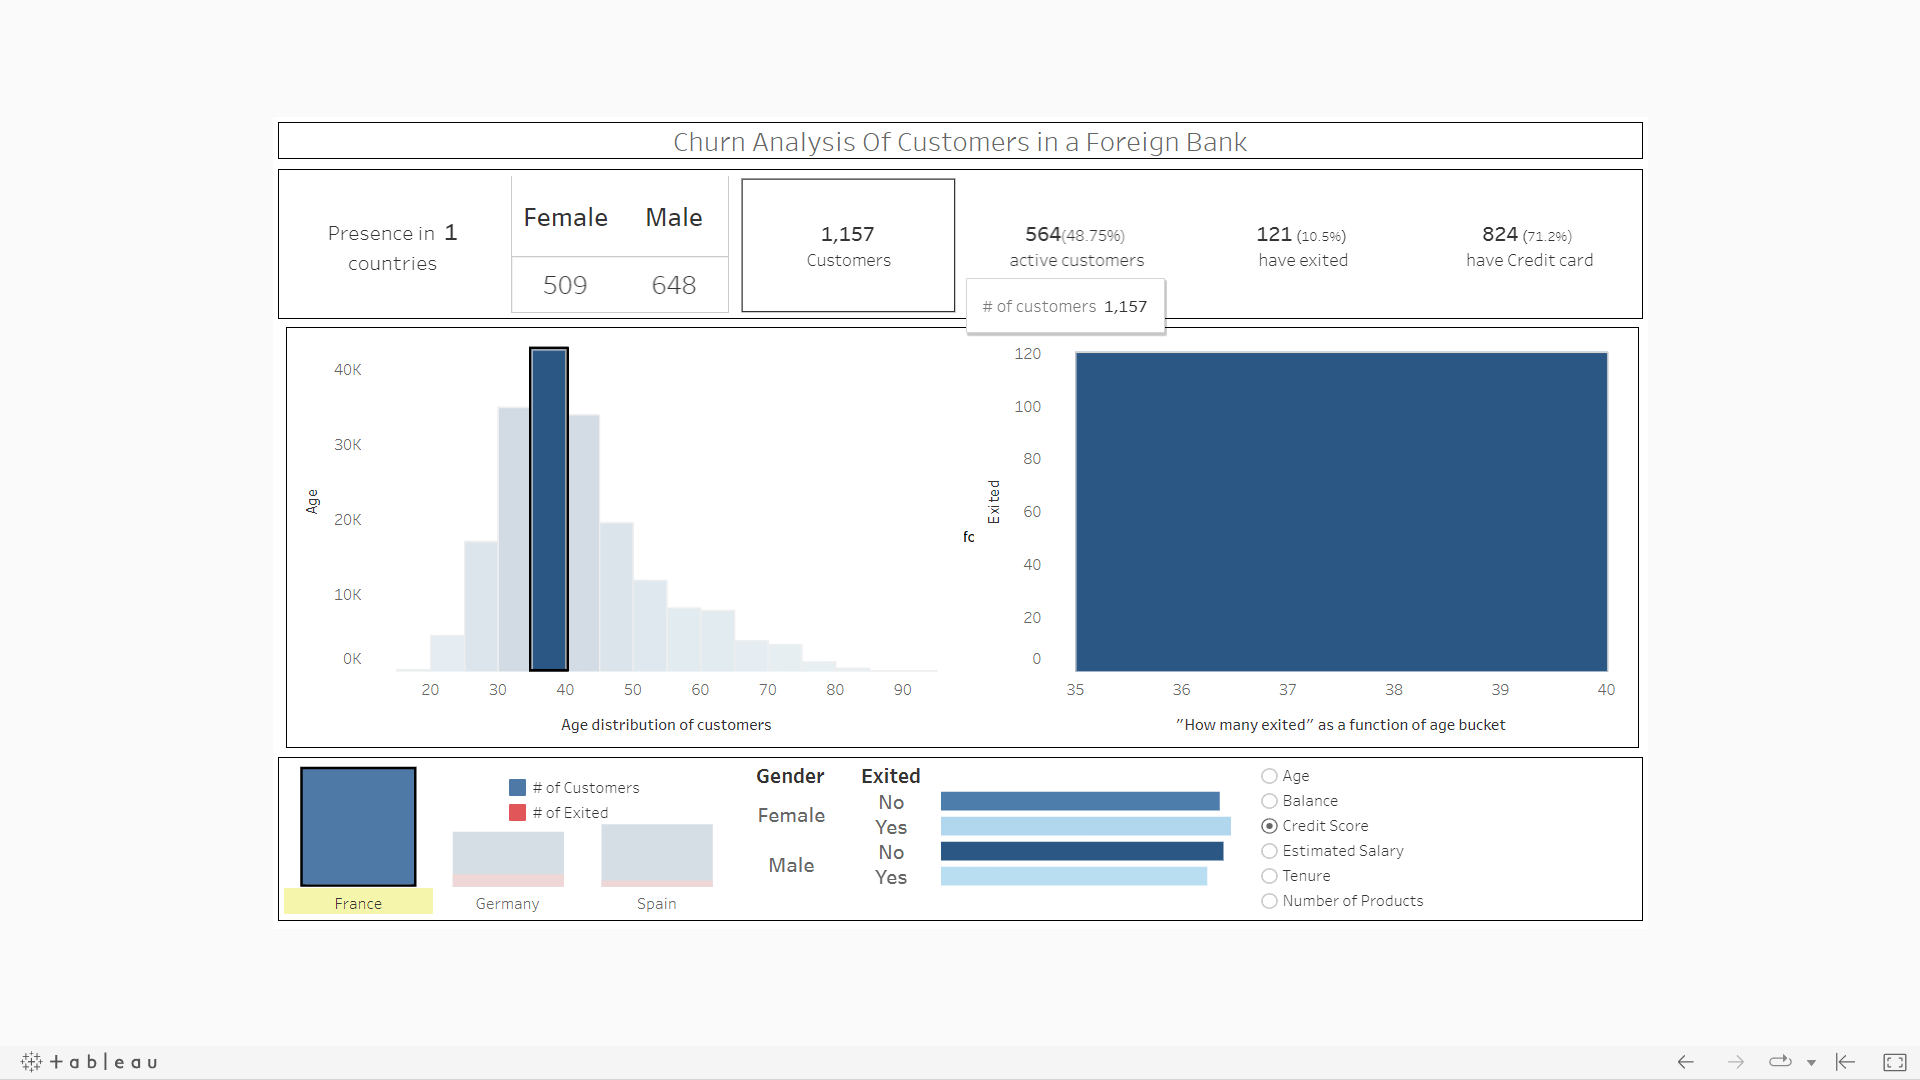

Layout of this report page (visuals, bound fields, positions):
{"tool":"tableau","page":{"name":"Dashboard 1","canvas":[1100,650],"ordinal":0},"visuals":[{"type":"text","box":[0,0,1100,38]},{"type":"worksheet","title":"# of countries","mark":"Automatic","box":[5,43,182,118]},{"type":"worksheet","title":"Gender","mark":"Automatic","cols":["Gender"],"box":[187,43,182,118]},{"type":"worksheet","title":"Customers","mark":"Automatic","box":[369,43,182,118]},{"type":"worksheet","title":"Active customers","mark":"Automatic","box":[551,43,182,118]},{"type":"worksheet","title":"exited  customers ","mark":"Automatic","box":[733,43,181,118]},{"type":"worksheet","title":"Credit card","mark":"Automatic","box":[914,43,181,118]},{"type":"worksheet","title":"Age wise","mark":"Automatic","rows":["Age"],"cols":["Age (bin)"],"box":[12,169,545,335]},{"type":"worksheet","title":"Exited vs age","mark":"Automatic","rows":["Exited"],"cols":["Age (bin)"],"box":[557,169,535,335]},{"type":"worksheet","box":[0,325,1100,325]},{"type":"worksheet","title":"Exited country wise","mark":"Bar","rows":["ChurnAnalysisData_51BE9C0CF510447EA886F9E47D882F68","Exited"],"cols":["Geography"],"box":[5,513,366,129]},{"type":"worksheet","title":"Gender wise exited","mark":"Automatic","rows":["Gender","Exited"],"cols":["Calculation_878201944899014657"],"box":[371,513,412,129]},{"type":"parameter","param":"[Parameters].[Parameter 1]","box":[783,513,312,129]},{"type":"legend","title":"Exited country wise","param":"[federated.0fxd9ov0lvobej0zmb3kq00man53].[:Measure Names]","box":[186,527,193,58]}]}

Visuals, with their boxes on the page's 1100x650 design canvas (x1, y1, x2, y2). These are canvas units, not pixel positions in the 1920x1080 screenshot, which may show the page scaled, cropped or inside an application window:
text: crop(0, 0, 1100, 38)
"# of countries" worksheet: crop(5, 43, 187, 161)
"Gender" worksheet: crop(187, 43, 369, 161)
"Customers" worksheet: crop(369, 43, 551, 161)
"Active customers" worksheet: crop(551, 43, 733, 161)
"exited  customers " worksheet: crop(733, 43, 914, 161)
"Credit card" worksheet: crop(914, 43, 1095, 161)
"Age wise" worksheet: crop(12, 169, 557, 504)
"Exited vs age" worksheet: crop(557, 169, 1092, 504)
worksheet: crop(0, 325, 1100, 650)
"Exited country wise" worksheet (Bar marks): crop(5, 513, 371, 642)
"Gender wise exited" worksheet: crop(371, 513, 783, 642)
parameter: crop(783, 513, 1095, 642)
"Exited country wise" legend: crop(186, 527, 379, 585)
